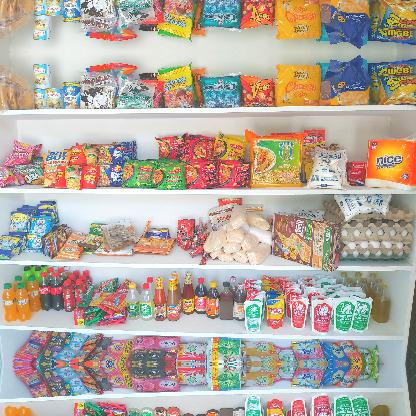Koko-Krunch: (271, 208, 343, 274)
